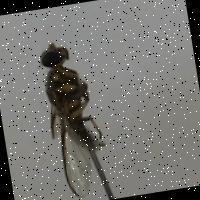Oriental-fruit-fly: (27, 31, 120, 200)
